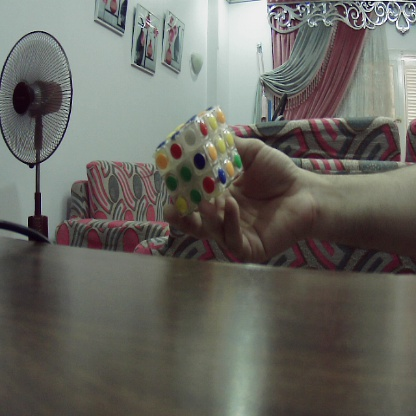Rubix Cube: (160, 121, 238, 207)
